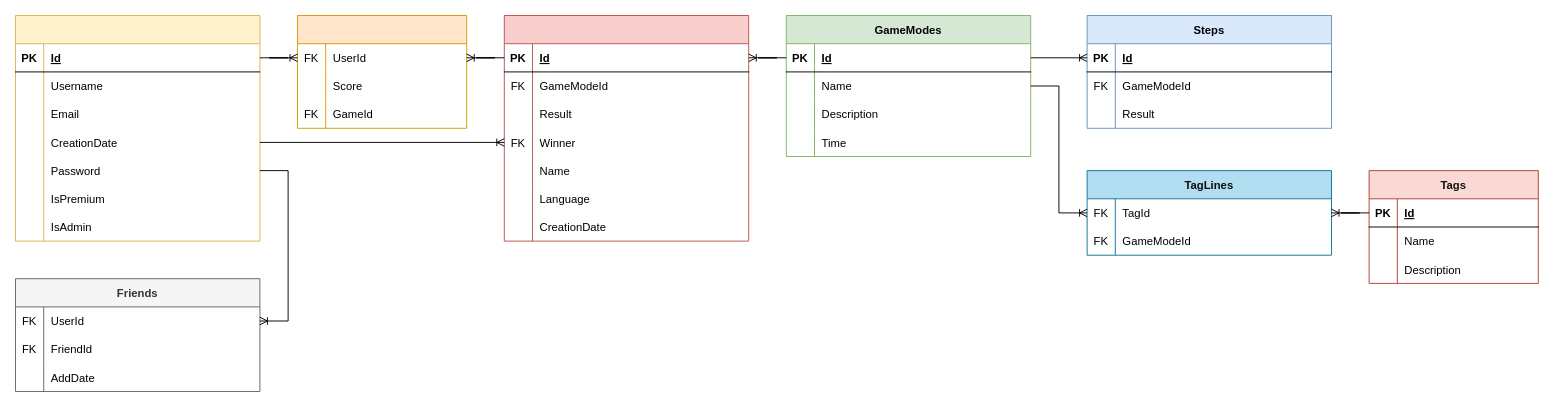
Some shapes in this 1554 by 407 pixel diagram are drawn without their labels. Each missing label, with the box of its shape:
Games: (503, 15, 749, 241)
Participants: (297, 15, 467, 128)
Users: (15, 15, 260, 241)
